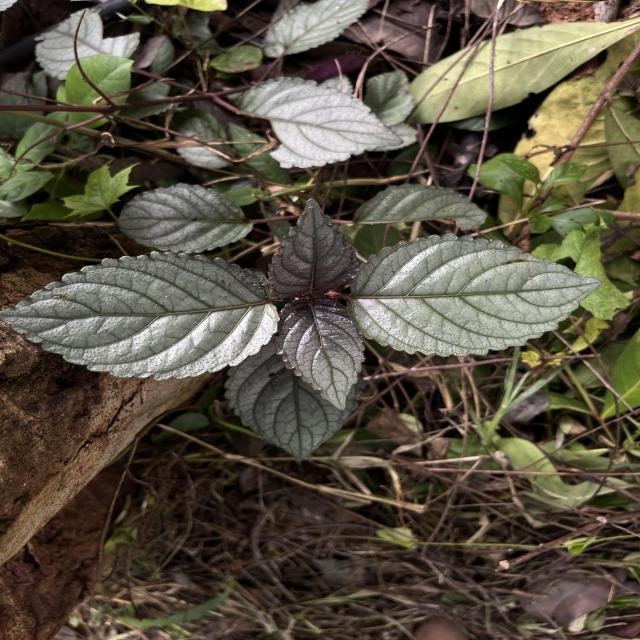Hemigraphis colorata: (0, 247, 282, 384), (344, 230, 606, 362), (268, 290, 370, 414), (264, 195, 364, 304)
